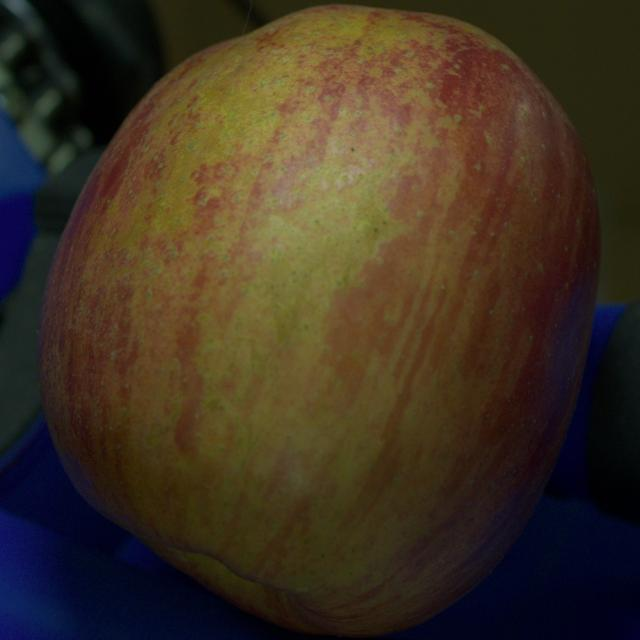apple: (39, 6, 599, 636)
